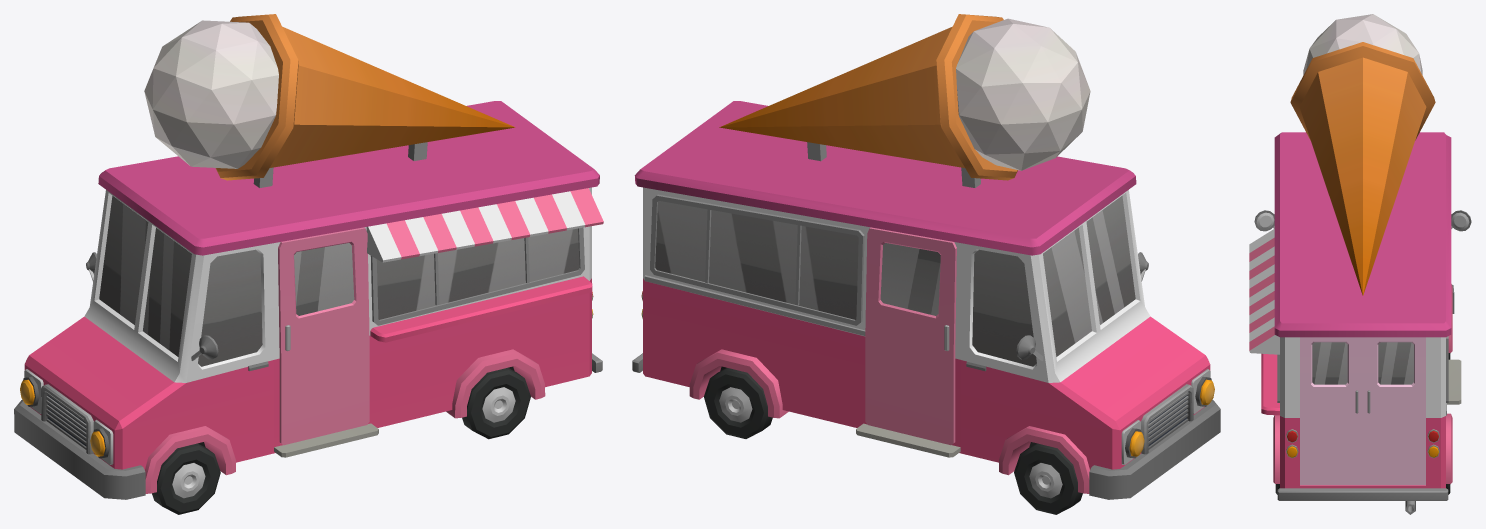
File: IceTruck_2_I.fbx
3 renders of one model, left to right at view 1: azimuth 30°, elevation 25°; view 2: azimuth 150°, elevation 25°; view 3: azimuth 270°, elevation 25°, orthographic. The views are drawn at different scales.
Parts seen in each view (by area): view 1: IceTruck_2_I, RL, FL; view 2: IceTruck_2_I, FR, RR; view 3: IceTruck_2_I.
Part boxes in pixels (box(x1,y1,x2,y2)): IceTruck_2_I: box(14, 14, 603, 499); RL: box(462, 367, 530, 439); FL: box(152, 443, 220, 514); IceTruck_2_I: box(632, 14, 1220, 499); FR: box(1014, 443, 1082, 514); RR: box(704, 368, 772, 438); IceTruck_2_I: box(1249, 14, 1471, 514).
Bounding box in the file's own units: 4.16 × 3.43 × 1.84.
